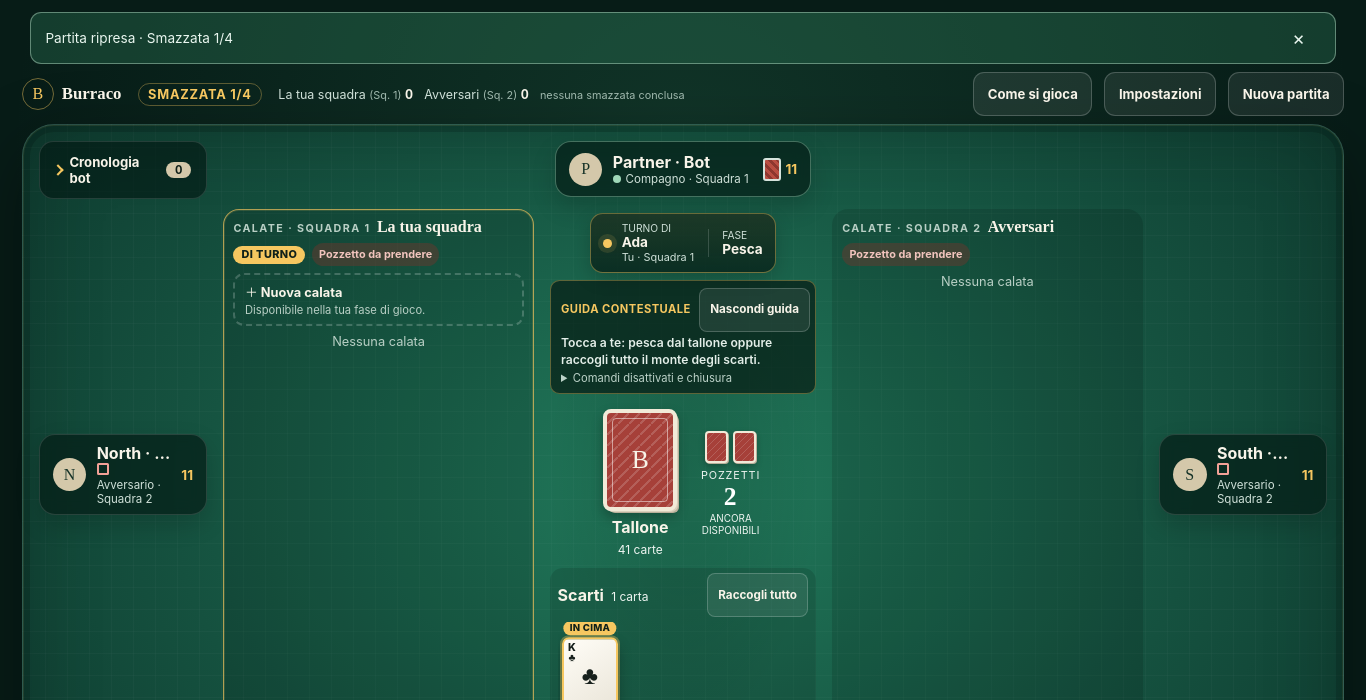
Scenario: App contextual guidance (M36) › keeps a valid match playable when the guidance preference is malformed or unwritable
Later steps or results of the test are not shown.
Expected: the element "Guida contestuale" is shown, left=550, top=280, right=816, bottom=394
Click the button "Nascondi guida": {"x": 755, "y": 310} left=699, top=288, right=810, bottom=332
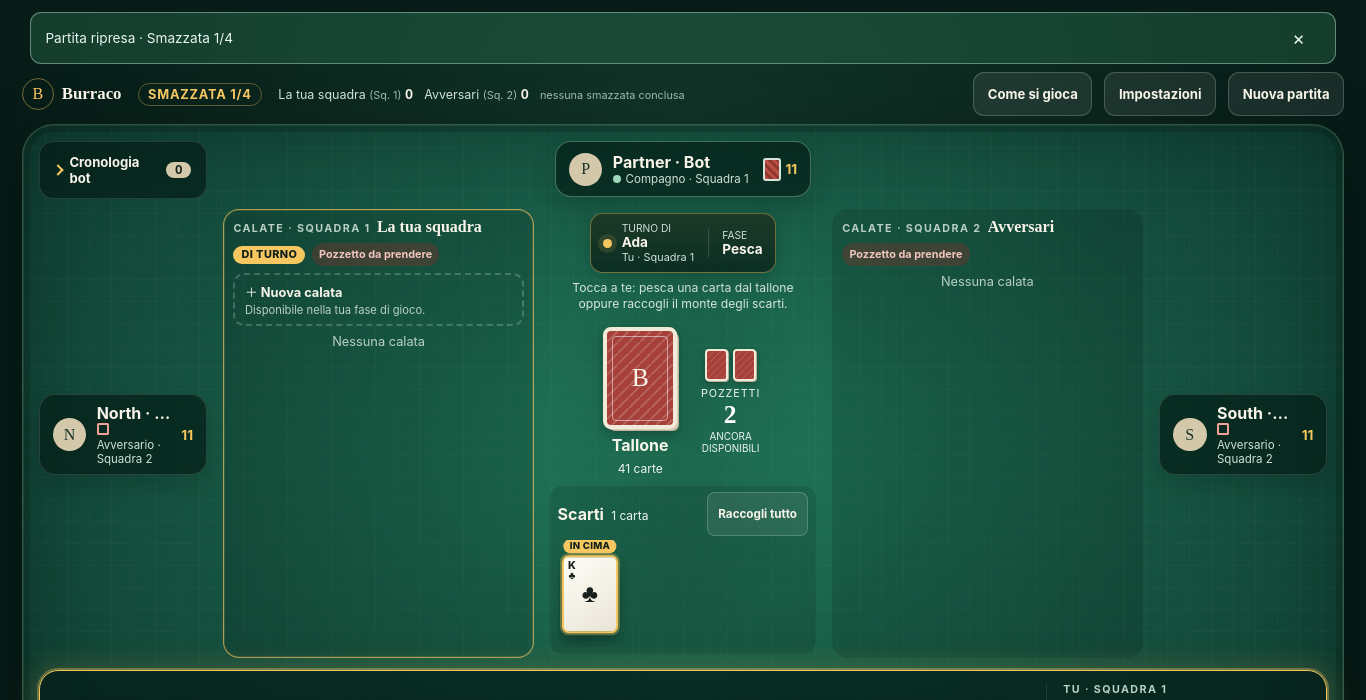
Expected: the message shows "Partita ripresa", left=45, top=30, right=233, bottom=46
Expected: the heading "Guida contestuale" is gone
Expected: the text with class "turn-guidance" is shown, left=572, top=280, right=794, bottom=311
